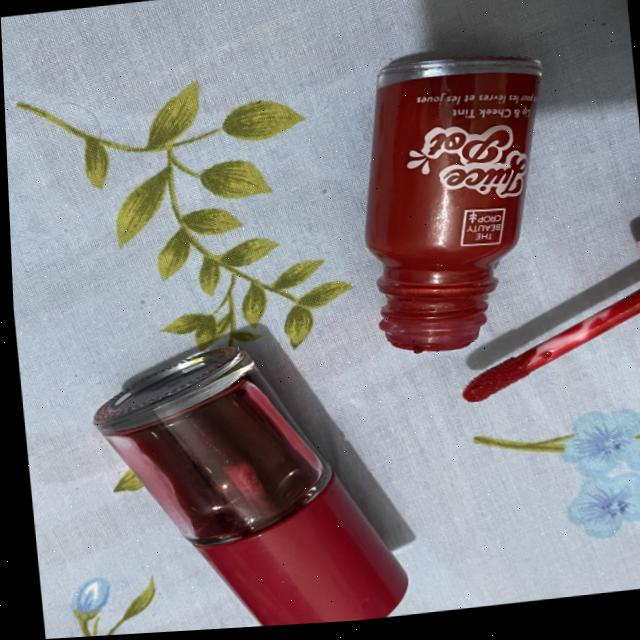Tint: (38, 320, 402, 639), (326, 34, 585, 381), (418, 263, 640, 431)
